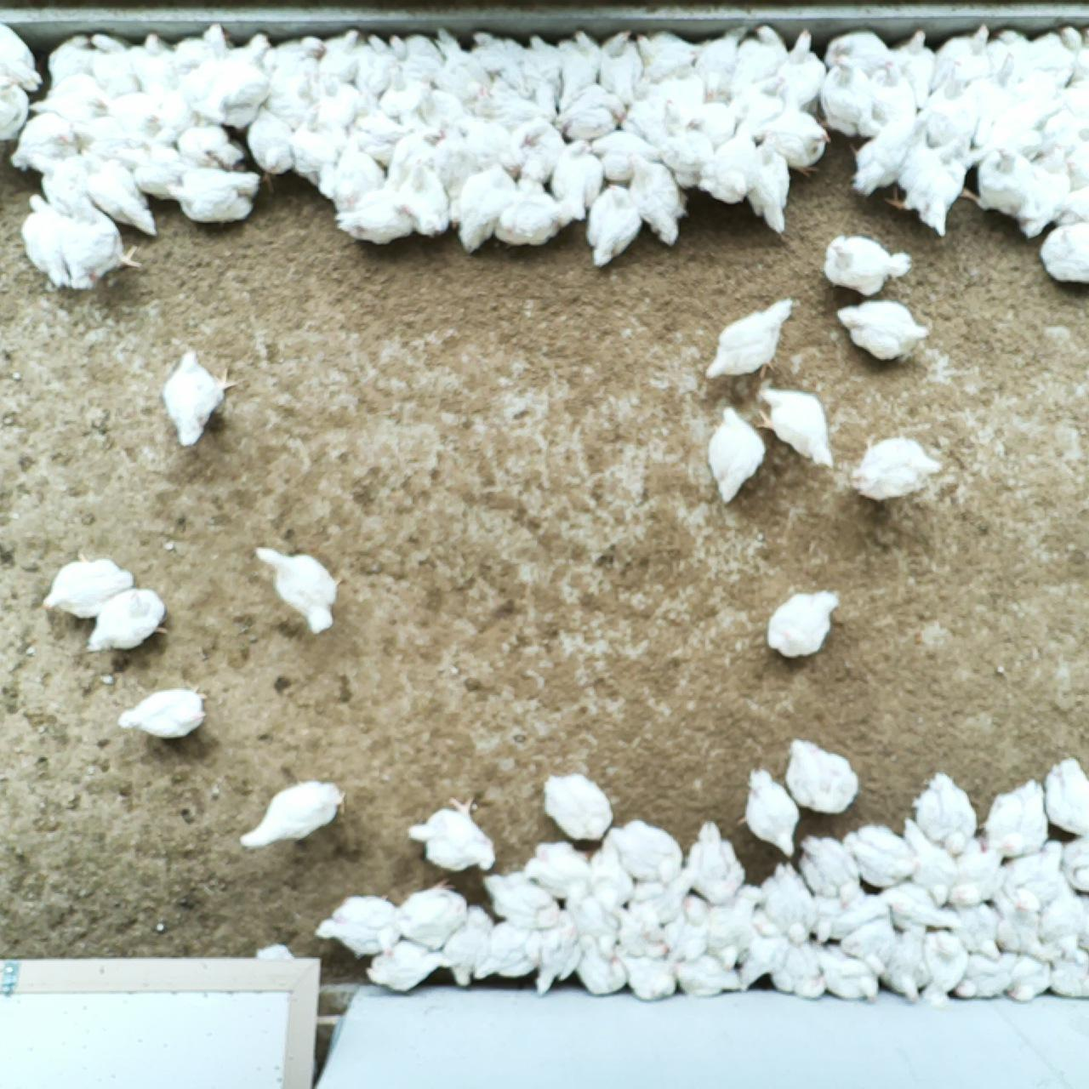chicken: (57, 184, 149, 294), (233, 771, 348, 853), (884, 134, 972, 239), (184, 31, 275, 128), (77, 144, 163, 241), (256, 547, 349, 636), (701, 294, 793, 382), (405, 792, 497, 875), (163, 347, 236, 451), (41, 547, 138, 624), (843, 431, 942, 503), (835, 291, 929, 365), (780, 736, 865, 817), (821, 230, 918, 298), (979, 775, 1049, 869), (756, 385, 835, 468), (626, 152, 694, 248), (16, 190, 79, 292), (312, 893, 405, 961), (84, 586, 170, 658), (850, 109, 918, 198), (965, 143, 1041, 222), (678, 818, 746, 906), (162, 164, 260, 225), (387, 879, 471, 949), (972, 89, 1061, 155), (766, 585, 843, 661), (708, 404, 764, 505), (452, 162, 510, 258), (816, 54, 883, 137), (996, 837, 1070, 912), (756, 106, 831, 179), (494, 177, 572, 247), (702, 885, 764, 973), (739, 764, 795, 860), (909, 771, 973, 855), (697, 120, 758, 207), (925, 81, 1005, 147), (117, 684, 208, 742), (542, 767, 613, 841), (482, 864, 562, 929), (986, 889, 1058, 960), (896, 817, 954, 905), (560, 881, 626, 958), (585, 178, 642, 267), (336, 186, 419, 247), (623, 866, 694, 937), (552, 82, 628, 148), (361, 936, 449, 993), (732, 907, 790, 993), (101, 86, 188, 143), (28, 151, 102, 218), (527, 910, 585, 995), (744, 129, 790, 236), (125, 133, 196, 202), (759, 861, 814, 950), (807, 937, 880, 1004), (427, 31, 489, 109), (845, 818, 913, 889), (22, 72, 111, 126), (1016, 144, 1065, 242), (608, 821, 682, 885), (443, 900, 497, 987), (467, 914, 536, 982), (395, 156, 450, 241), (1016, 27, 1075, 106), (331, 135, 387, 218), (765, 932, 829, 1004), (11, 112, 83, 175), (260, 33, 326, 101), (67, 116, 143, 175), (503, 117, 567, 187), (553, 137, 604, 224), (774, 30, 824, 117), (661, 887, 716, 966), (588, 127, 661, 186), (290, 125, 349, 198), (951, 834, 1008, 909), (876, 925, 930, 1004), (247, 105, 296, 192), (802, 877, 862, 948), (731, 22, 789, 95), (386, 121, 450, 187), (523, 839, 592, 900), (935, 25, 994, 96), (916, 927, 969, 1006), (798, 834, 867, 894), (658, 124, 717, 194), (877, 884, 956, 936), (465, 29, 527, 95), (85, 31, 141, 103), (470, 72, 535, 134), (696, 26, 747, 105), (519, 32, 566, 117), (348, 108, 409, 173), (262, 70, 322, 136), (314, 25, 368, 98), (556, 27, 604, 109), (619, 93, 683, 153), (442, 114, 508, 171), (1037, 221, 1089, 293), (945, 893, 999, 962), (385, 32, 448, 91), (1043, 756, 1089, 836), (952, 948, 1027, 997), (633, 29, 701, 83), (821, 31, 894, 81), (1039, 888, 1089, 961), (46, 28, 102, 93), (573, 935, 629, 1000), (1002, 944, 1057, 1009), (891, 30, 934, 113), (613, 947, 677, 1002), (586, 830, 631, 908), (128, 31, 181, 97), (376, 63, 425, 133), (414, 90, 470, 151), (671, 954, 742, 1001), (174, 21, 231, 78), (728, 75, 788, 128), (176, 126, 243, 173), (651, 70, 707, 126), (1045, 941, 1089, 1011), (0, 23, 43, 94), (424, 130, 474, 191), (320, 80, 373, 137), (841, 919, 899, 971), (986, 28, 1032, 92), (599, 26, 639, 99), (868, 66, 915, 128), (352, 33, 396, 99), (610, 909, 664, 961), (0, 71, 36, 140), (1052, 24, 1089, 89), (1041, 101, 1089, 150), (683, 101, 739, 143), (1062, 833, 1089, 898), (1051, 187, 1089, 231), (1062, 137, 1089, 191)
